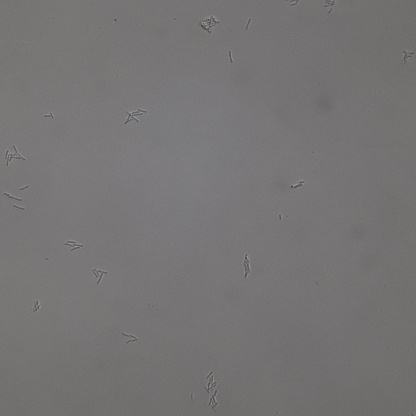R(colony): (124, 106, 149, 126), (4, 145, 25, 166), (198, 16, 219, 33), (205, 370, 218, 393), (243, 253, 253, 279), (402, 48, 416, 66), (209, 391, 220, 413), (92, 268, 107, 284), (65, 241, 83, 252), (323, 1, 335, 15), (124, 333, 138, 344), (290, 180, 305, 190), (32, 301, 41, 313), (44, 111, 54, 120)
